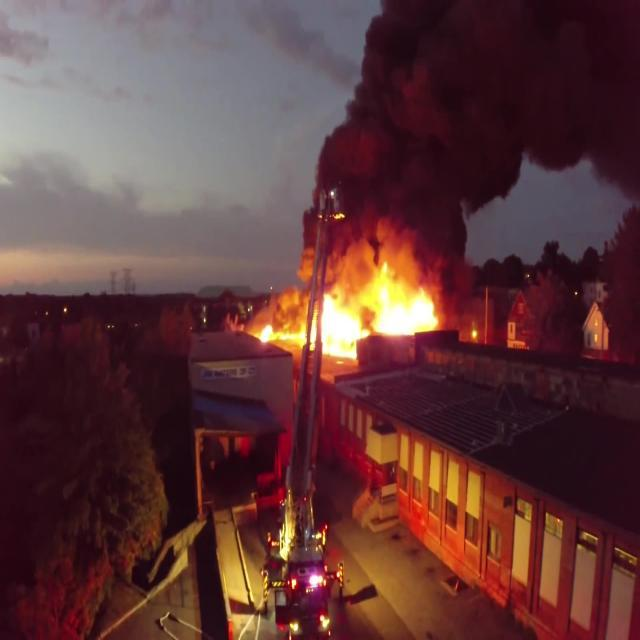Fire: (254, 250, 448, 364)
Smoke: (255, 0, 640, 344)
